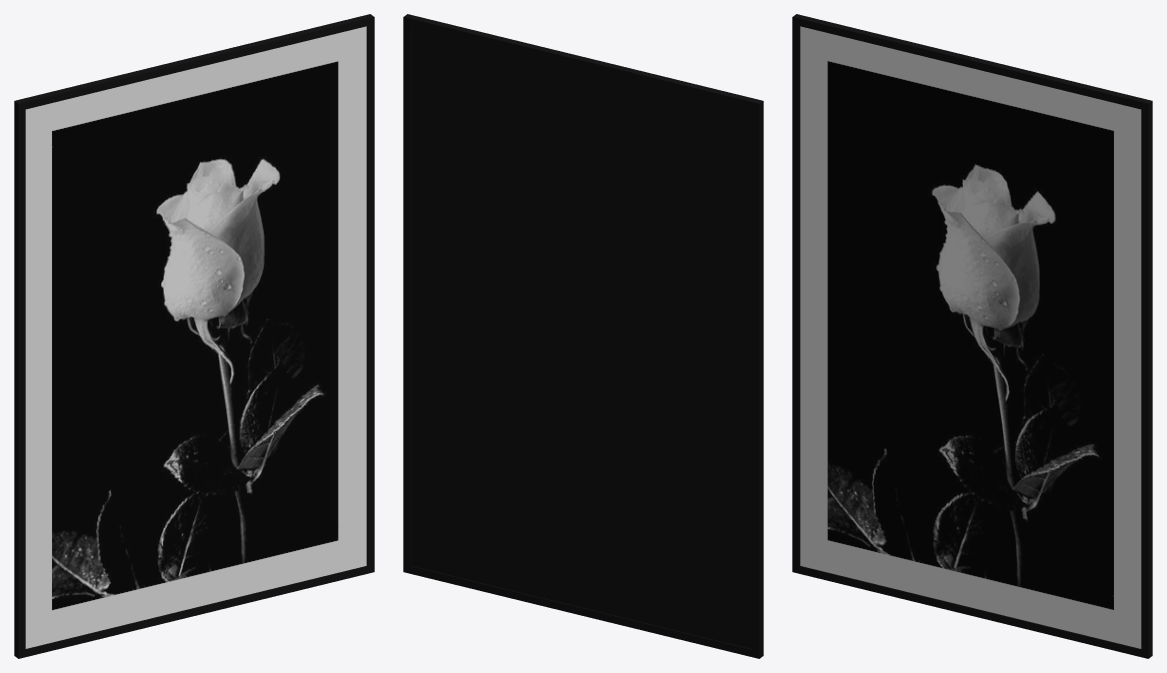
Rendered from Picture 1.FBX.
3 renders of one model, left to right at view 1: azimuth 30°, elevation 25°; view 2: azimuth 150°, elevation 25°; view 3: azimuth 330°, elevation 25°, orthographic.
Visible parts, largest first — view 1: picture 1; view 2: picture 1; view 3: picture 1.
Part boxes in pixels (left/top/right/bottom): picture 1: left=14, top=14, right=374, bottom=658; picture 1: left=403, top=14, right=763, bottom=658; picture 1: left=792, top=14, right=1152, bottom=658.
Size of the model in its own units: 40.43 by 60.26 by 0.8056.
Materials: 1 (1 with a texture image).
